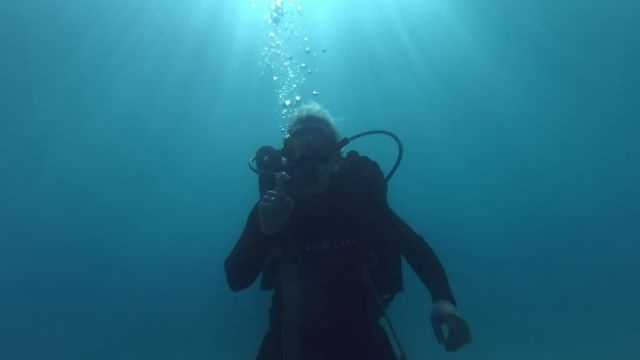Diver: (287, 114, 345, 196), (251, 175, 302, 238), (424, 294, 478, 353)
